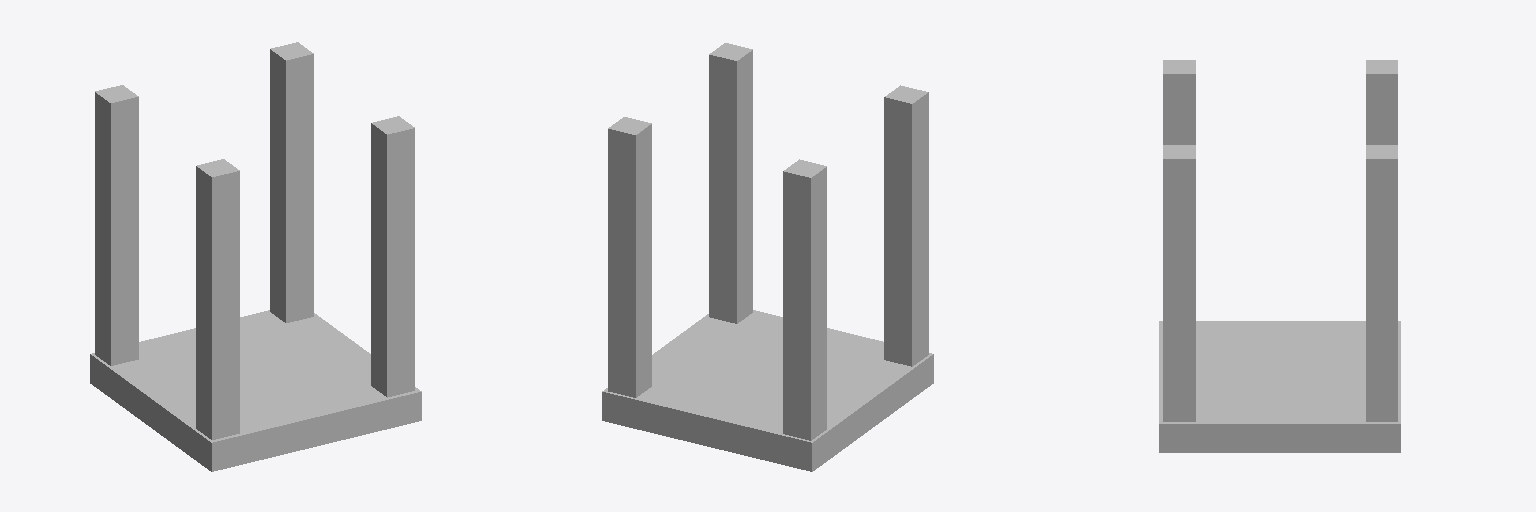
The model's file is temp_drill.obj.
3 views of the same model, side by side, from view 1: azimuth 30°, elevation 25°; view 2: azimuth 150°, elevation 25°; view 3: azimuth 270°, elevation 25° (orthographic).
Parts seen in each view (by area): view 1: Cube_Cube.001, Cube.001_Cube.002, Cube.003_Cube.004, Cube.004_Cube.005, Cube.002_Cube.003; view 2: Cube_Cube.001, Cube.004_Cube.005, Cube.002_Cube.003, Cube.003_Cube.004, Cube.001_Cube.002; view 3: Cube_Cube.001, Cube.001_Cube.002, Cube.002_Cube.003, Cube.004_Cube.005, Cube.003_Cube.004.
Part boxes in pixels (bbox=[...]): Cube_Cube.001: bbox=[90, 310, 421, 471]; Cube.001_Cube.002: bbox=[371, 116, 414, 397]; Cube.003_Cube.004: bbox=[95, 85, 138, 365]; Cube.004_Cube.005: bbox=[196, 159, 239, 439]; Cube.002_Cube.003: bbox=[270, 42, 313, 322]; Cube_Cube.001: bbox=[602, 310, 933, 471]; Cube.004_Cube.005: bbox=[884, 85, 928, 366]; Cube.002_Cube.003: bbox=[608, 117, 651, 397]; Cube.003_Cube.004: bbox=[783, 159, 826, 440]; Cube.001_Cube.002: bbox=[709, 43, 752, 323]; Cube_Cube.001: bbox=[1159, 321, 1400, 452]; Cube.001_Cube.002: bbox=[1163, 145, 1195, 421]; Cube.002_Cube.003: bbox=[1366, 145, 1397, 421]; Cube.004_Cube.005: bbox=[1163, 60, 1195, 144]; Cube.003_Cube.004: bbox=[1366, 60, 1397, 144].
Size of the model in its own units: 15 by 19.91 by 15.